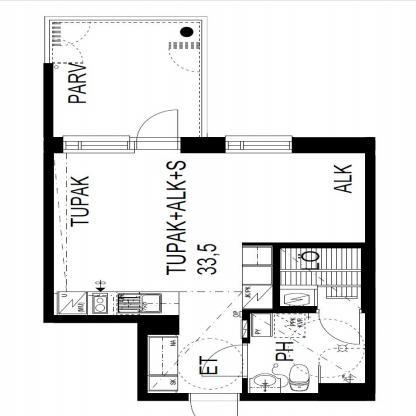door: (130, 108, 184, 155)
window: (220, 132, 295, 156), (59, 135, 135, 157)
